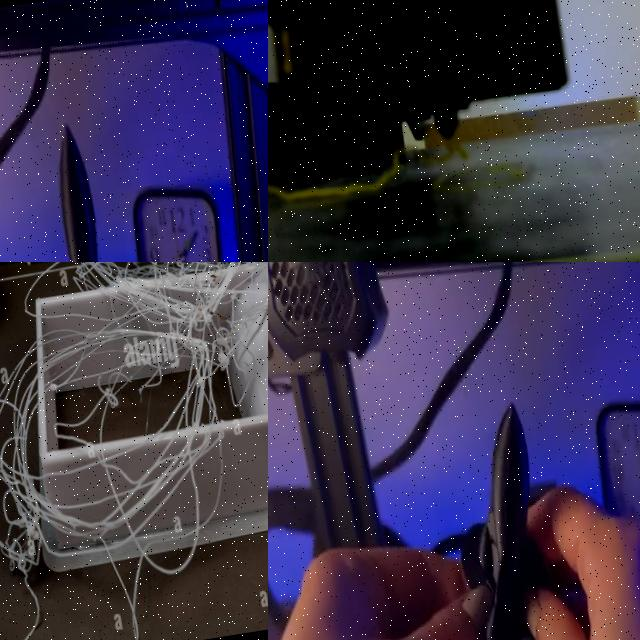spaghetti: (0, 262, 268, 640), (268, 149, 405, 204), (425, 138, 468, 163)
